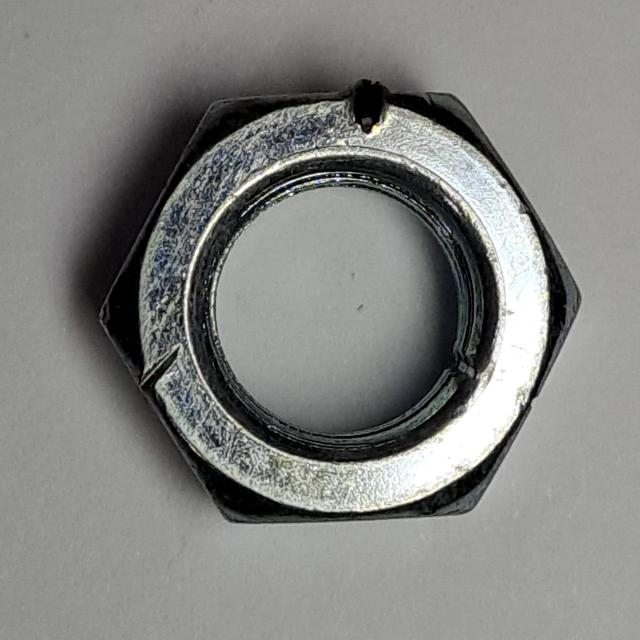Scratches: (79, 61, 594, 542)
